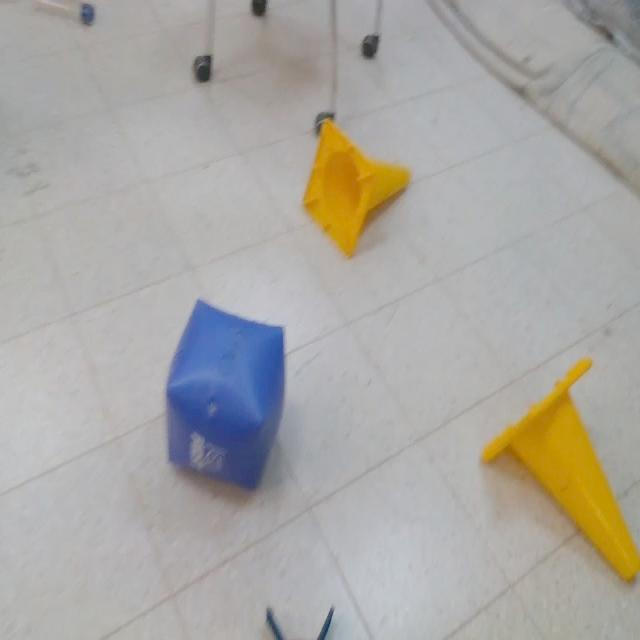cone: (483, 352, 640, 581), (304, 122, 414, 257)
cube: (168, 300, 289, 497)
